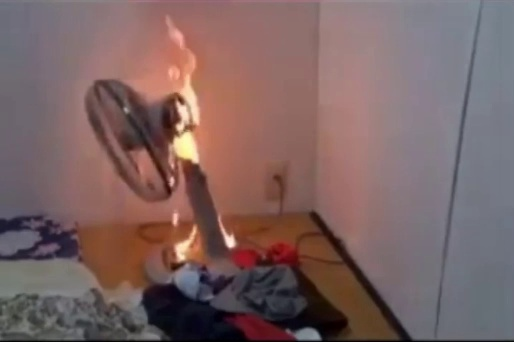fire: (165, 41, 216, 170)
